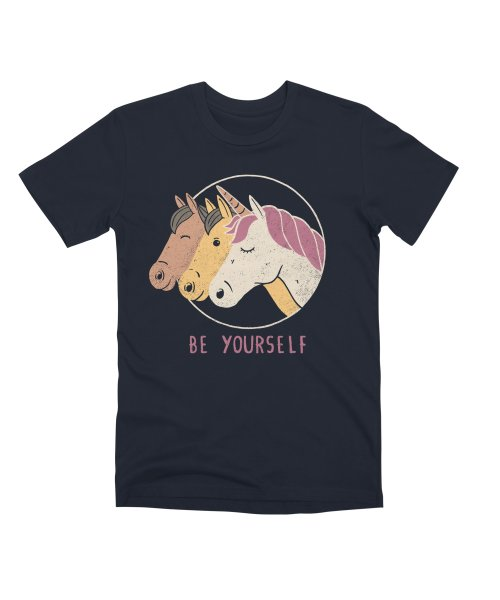design: (142, 167, 331, 361)
